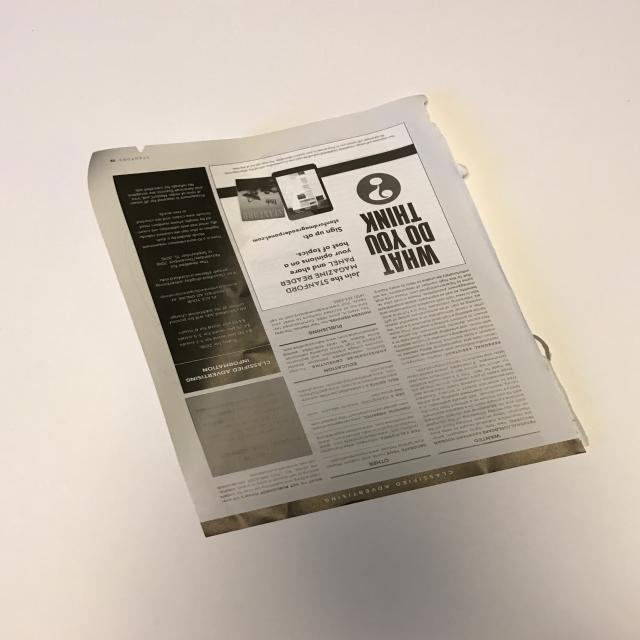paper: (88, 95, 593, 538)
